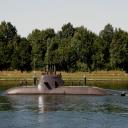submarine: (11, 70, 127, 98)
